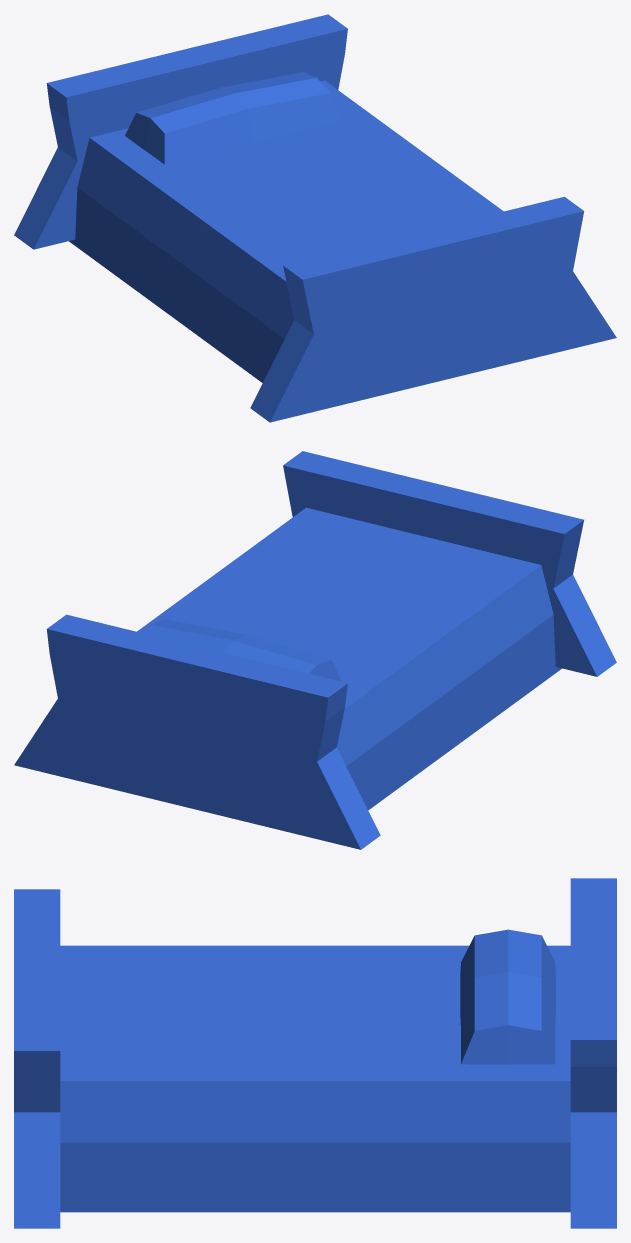
The model's file is Collision_Bed_Twin2.fbx.
3 views of the same model, one above another, from view 1: azimuth 30°, elevation 25°; view 2: azimuth 150°, elevation 25°; view 3: azimuth 270°, elevation 25° (orthographic). The views are drawn at different scales.
Visible parts, largest first — view 1: UCX_Bed_Twin2_05, UCX_Bed_Twin2_02, UCX_Bed_Twin2_01, UCX_Bed_Twin2_03, UCX_Bed_Twin2_06, UCX_Bed_Twin2_04; view 2: UCX_Bed_Twin2_05, UCX_Bed_Twin2_04, UCX_Bed_Twin2_03, UCX_Bed_Twin2_01, UCX_Bed_Twin2_02, UCX_Bed_Twin2_06; view 3: UCX_Bed_Twin2_05, UCX_Bed_Twin2_06, UCX_Bed_Twin2_03, UCX_Bed_Twin2_01, UCX_Bed_Twin2_02, UCX_Bed_Twin2_04.
Boxes of the visible parts, x1=… form: UCX_Bed_Twin2_05: x1=69, y1=80, x2=503, y2=382; UCX_Bed_Twin2_02: x1=250, y1=271, x2=616, y2=422; UCX_Bed_Twin2_01: x1=283, y1=196, x2=584, y2=334; UCX_Bed_Twin2_03: x1=46, y1=14, x2=347, y2=161; UCX_Bed_Twin2_06: x1=125, y1=72, x2=342, y2=164; UCX_Bed_Twin2_04: x1=14, y1=147, x2=83, y2=249; UCX_Bed_Twin2_05: x1=137, y1=507, x2=561, y2=810; UCX_Bed_Twin2_04: x1=14, y1=698, x2=380, y2=849; UCX_Bed_Twin2_03: x1=46, y1=614, x2=347, y2=761; UCX_Bed_Twin2_01: x1=283, y1=451, x2=583, y2=588; UCX_Bed_Twin2_02: x1=547, y1=574, x2=616, y2=676; UCX_Bed_Twin2_06: x1=143, y1=619, x2=341, y2=681; UCX_Bed_Twin2_05: x1=60, y1=945, x2=570, y2=1212; UCX_Bed_Twin2_06: x1=460, y1=929, x2=555, y2=1064; UCX_Bed_Twin2_03: x1=570, y1=878, x2=616, y2=1112; UCX_Bed_Twin2_01: x1=14, y1=889, x2=60, y2=1112; UCX_Bed_Twin2_02: x1=14, y1=1112, x2=60, y2=1228; UCX_Bed_Twin2_04: x1=570, y1=1112, x2=616, y2=1228.
Size of the model in its own units: 189 by 78.19 by 241.
